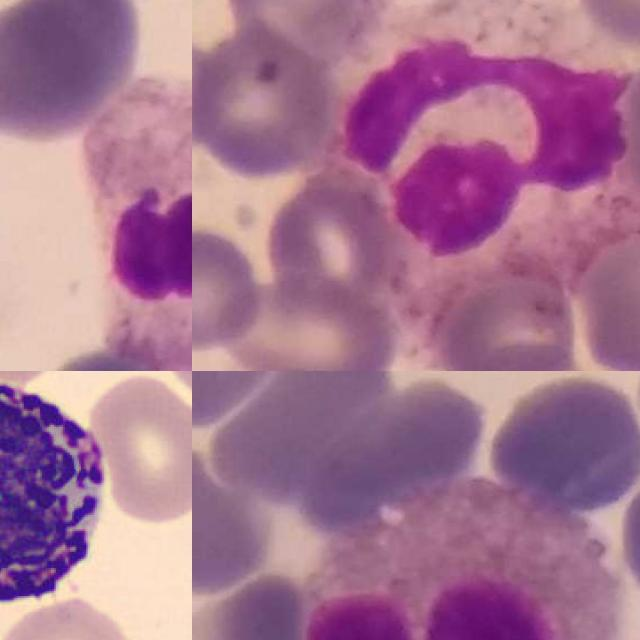Basophil: (0, 371, 118, 614)
Eosinophil: (309, 471, 632, 640)
Neutrophil: (335, 0, 638, 280), (86, 73, 192, 371)
RBC: (84, 371, 192, 525), (0, 592, 136, 640)
